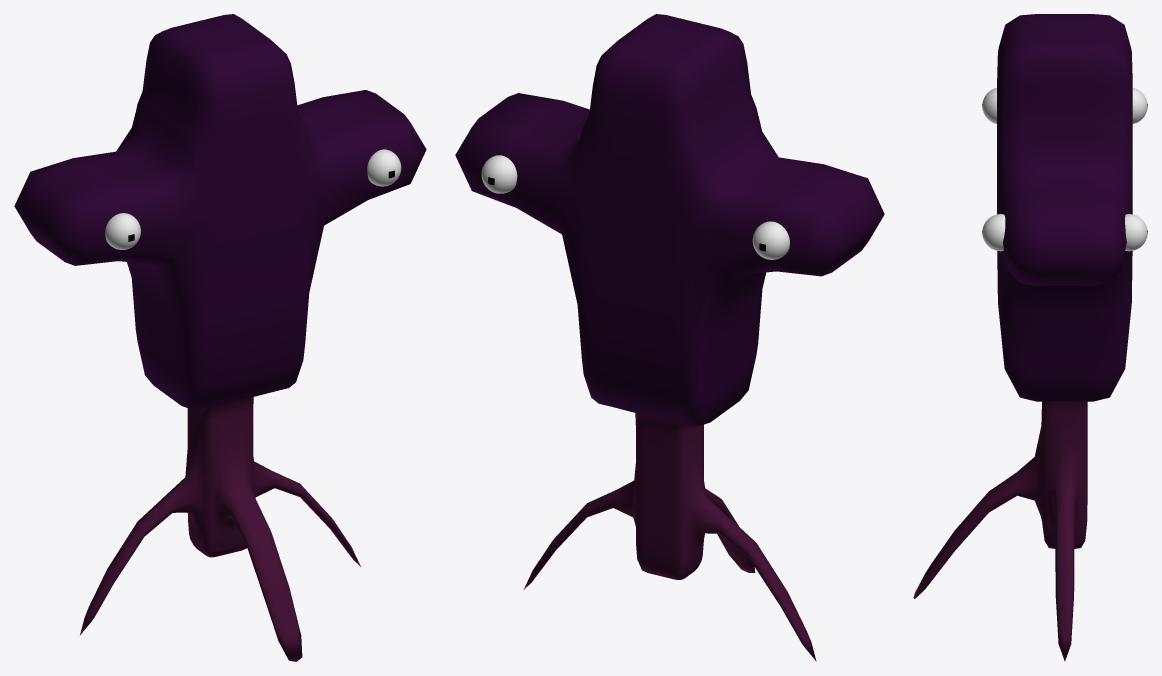
The model's file is Weird_Cartoon_Alien_1.fbx.
3 views of the same model, side by side, from view 1: azimuth 30°, elevation 25°; view 2: azimuth 150°, elevation 25°; view 3: azimuth 270°, elevation 25° (orthographic). The views are drawn at different scales.
Visible parts, largest first — view 1: Cube; view 2: Cube; view 3: Cube.
Boxes of the visible parts, bbox=[...] form: Cube: bbox=[14, 14, 426, 661]; Cube: bbox=[455, 14, 884, 661]; Cube: bbox=[913, 14, 1147, 661].
Bounding box in the file's own units: 632 × 923 × 345.
